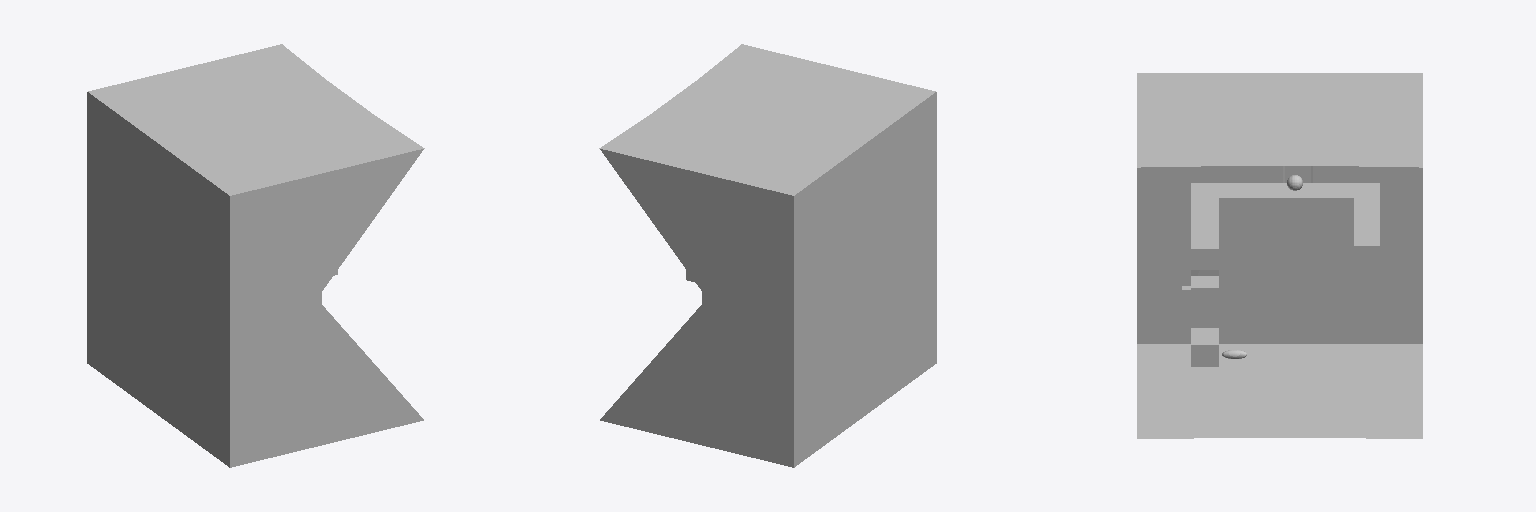
Rendered from SpaceDuck_Level_1.obj.
3 views of the same model, side by side, from view 1: azimuth 30°, elevation 25°; view 2: azimuth 150°, elevation 25°; view 3: azimuth 270°, elevation 25° (orthographic).
Visible parts, largest first — view 1: Cube.004_Cube.006; view 2: Cube.004_Cube.006; view 3: Cube.004_Cube.006, Cube.002_Cube.005.
Boxes of the visible parts, box(x1,y1,x2,y2) form: Cube.004_Cube.006: box(87, 44, 424, 467); Cube.004_Cube.006: box(599, 44, 936, 467); Cube.004_Cube.006: box(1137, 73, 1422, 438); Cube.002_Cube.005: box(1191, 183, 1379, 366).
Size of the model in its own units: 13.03 by 17.39 by 16.53.